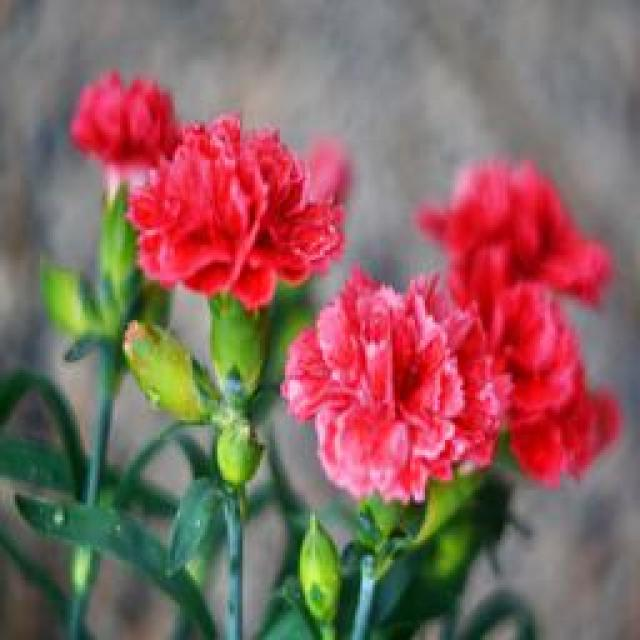carnation: (271, 269, 528, 520)
